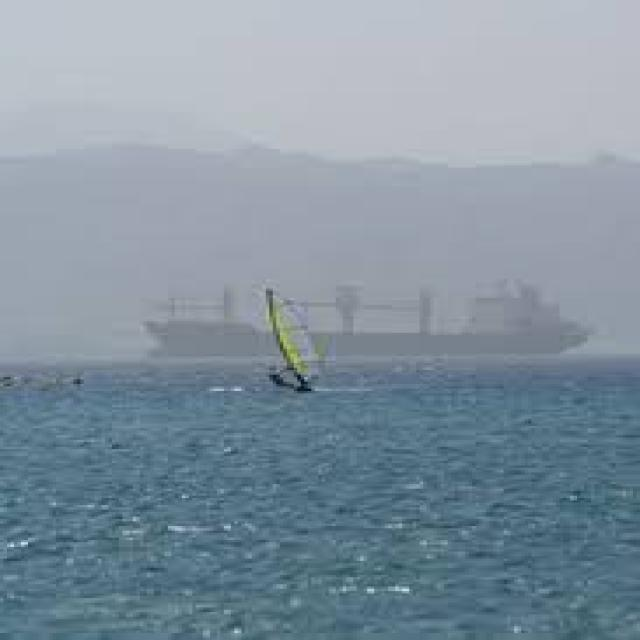cargoship: (133, 273, 596, 360), (248, 285, 338, 395)
